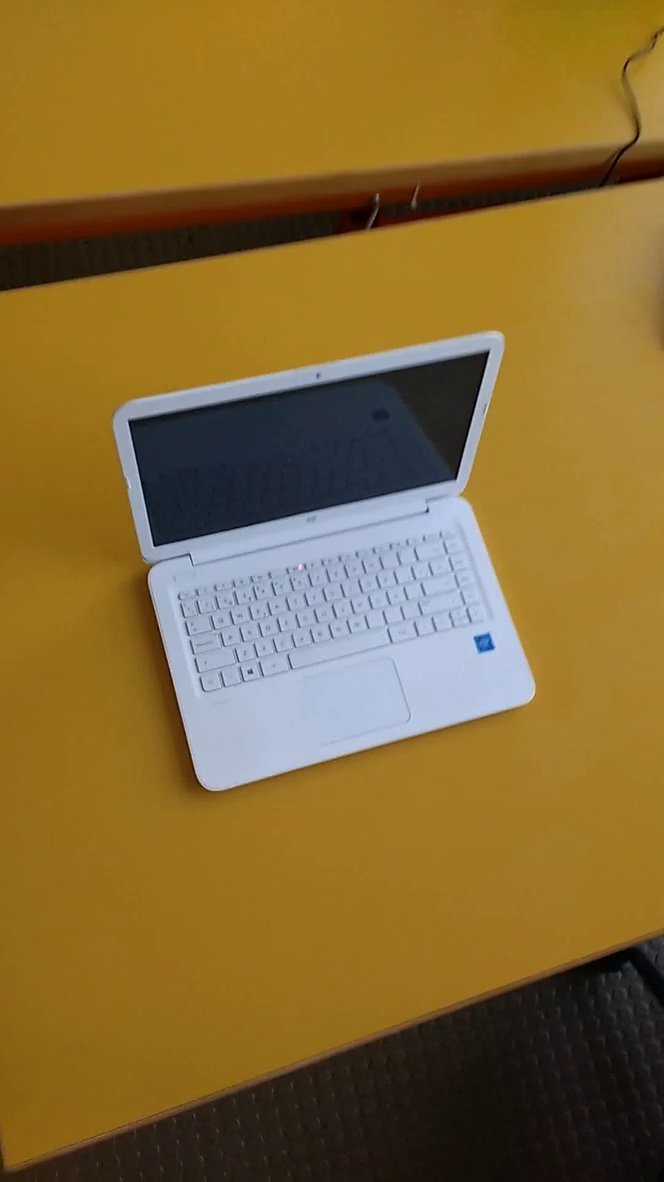laptop: (110, 325, 543, 798)
